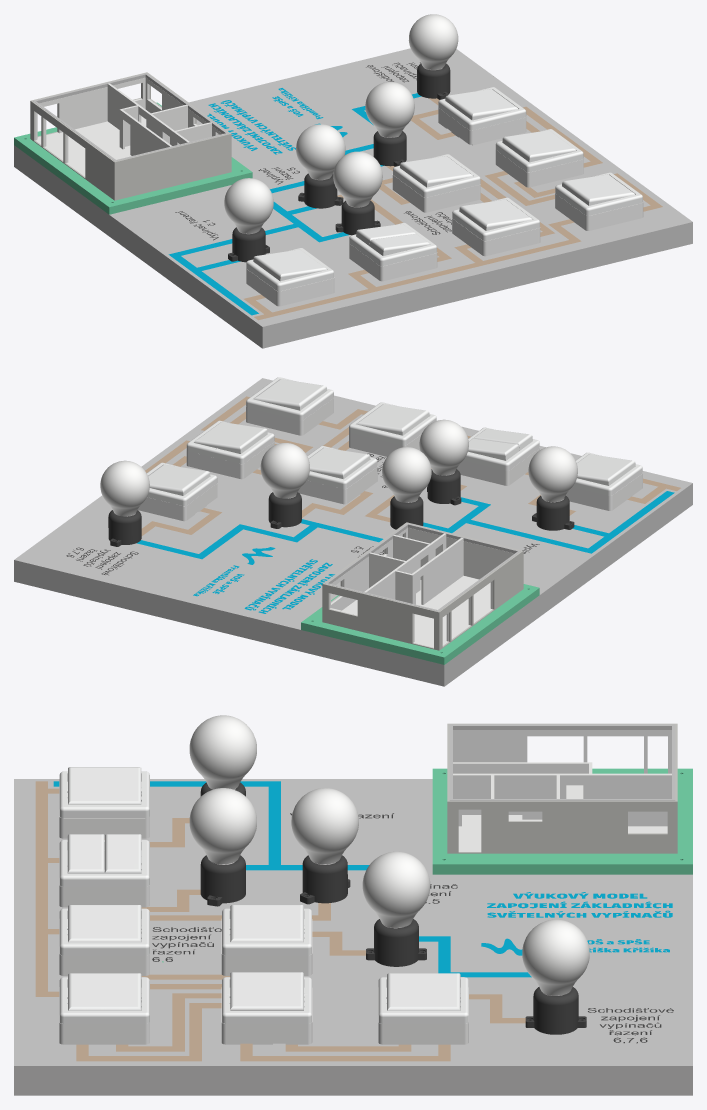
The model's file is panel.glb.
3 renders of one model, top to bottom at view 1: azimuth 30°, elevation 25°; view 2: azimuth 150°, elevation 25°; view 3: azimuth 270°, elevation 25°, orthographic. The views are drawn at different scales.
Visible parts, largest first — view 1: komplet deska; view 2: komplet deska; view 3: komplet deska.
Boxes of the visible parts, bbox=[...] form: komplet deska: bbox=[14, 14, 692, 348]; komplet deska: bbox=[14, 377, 692, 686]; komplet deska: bbox=[14, 715, 692, 1095].
Size of the model in its own units: 60 by 12.9 by 60.
